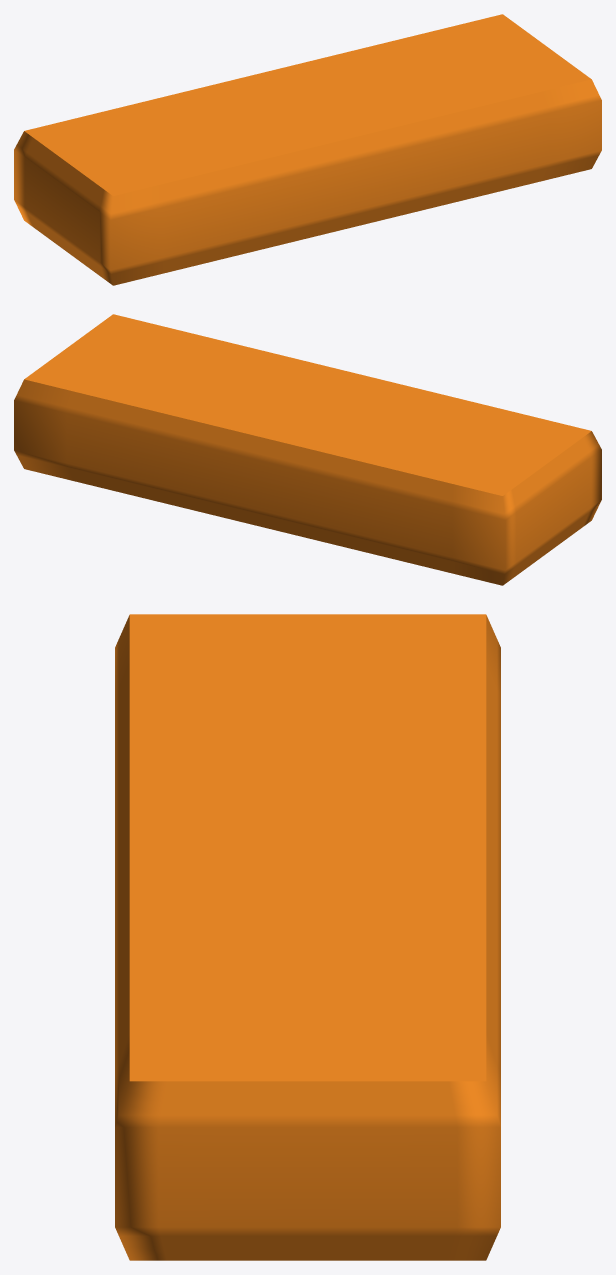
File: sign_minus.fbx
3 views of the same model, one above another, from view 1: azimuth 30°, elevation 25°; view 2: azimuth 150°, elevation 25°; view 3: azimuth 270°, elevation 25° (orthographic). The views are drawn at different scales.
Visible parts, largest first — view 1: polySurface21; view 2: polySurface21; view 3: polySurface21.
Boxes of the visible parts, x1,y1,x2,y2 form: polySurface21: [14, 14, 601, 285]; polySurface21: [14, 314, 601, 585]; polySurface21: [115, 614, 500, 1260].
Size of the model in its own units: 0.6029 by 0.1051 by 0.2051.
Materials: 1 (1 with a texture image).
